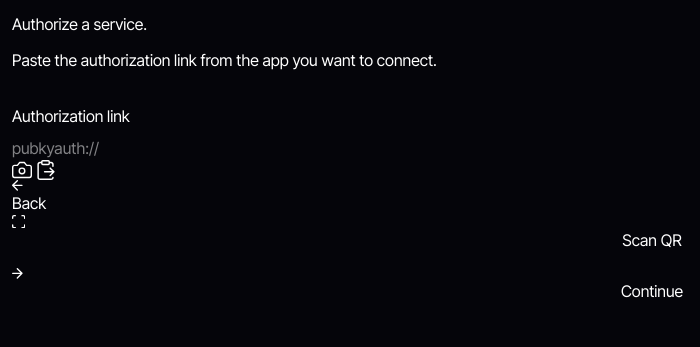
it: ManualAuthorization › shows and safely logs a clipboard failure
Step 1. Click the button named "Paste authorization link" → click(46, 170), box [36,160,56,180]
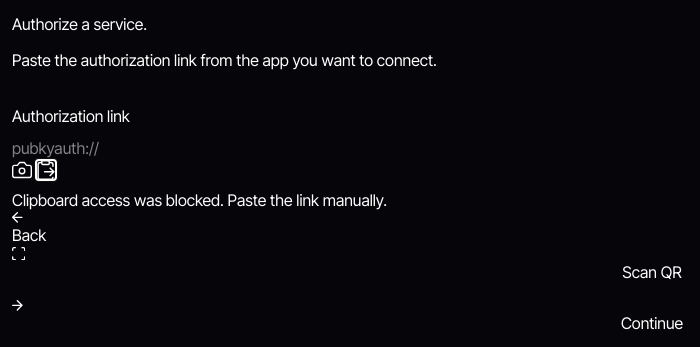
Result: the message reads "Clipboard access was blocked. Paste the link manually." at [12,190,387,210]
